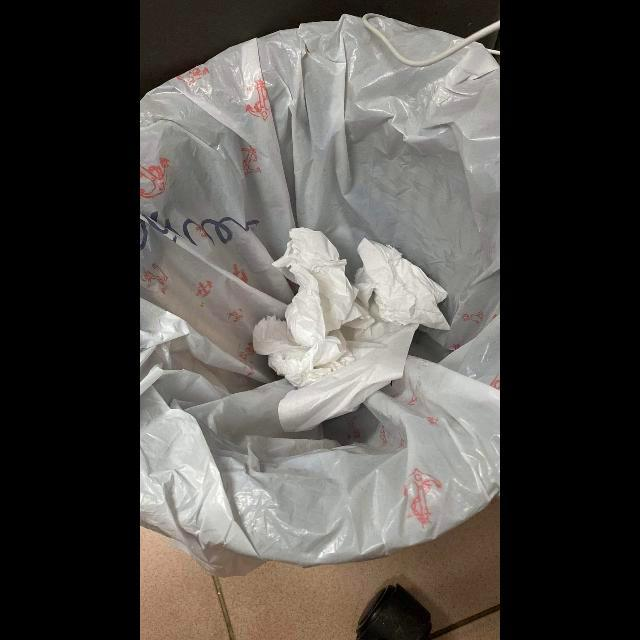paper: (252, 227, 454, 435)
